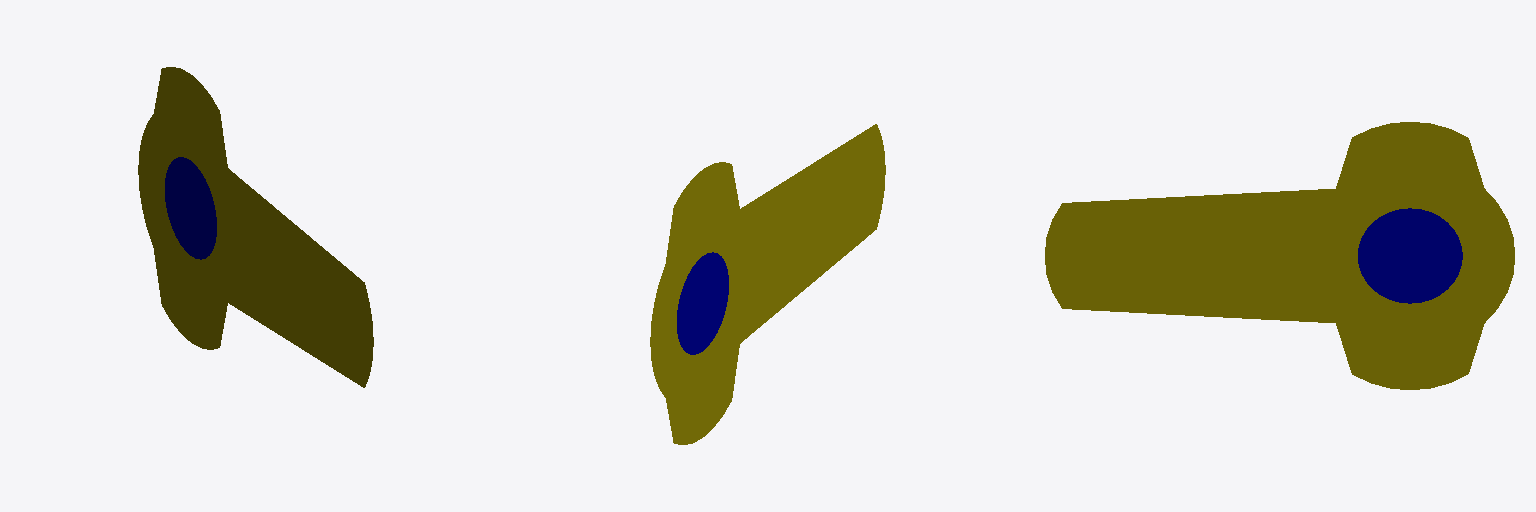
The model's file is reroutePowerBoard_cell.obj.
3 renders of one model, left to right at view 1: azimuth 30°, elevation 25°; view 2: azimuth 150°, elevation 25°; view 3: azimuth 270°, elevation 25°, orthographic.
Visible parts, largest first — view 1: Plane.000_Plane.004, Plane.001; view 2: Plane.000_Plane.004, Plane.001; view 3: Plane.000_Plane.004, Plane.001.
Part boxes in pixels (x1,y1,x2,y2): Plane.000_Plane.004: (138, 67, 373, 387); Plane.001: (165, 157, 216, 259); Plane.000_Plane.004: (650, 124, 885, 444); Plane.001: (677, 252, 728, 354); Plane.000_Plane.004: (1045, 122, 1514, 389); Plane.001: (1358, 208, 1462, 303).
Size of the model in its own units: 0 by 0.4294 by 0.682.